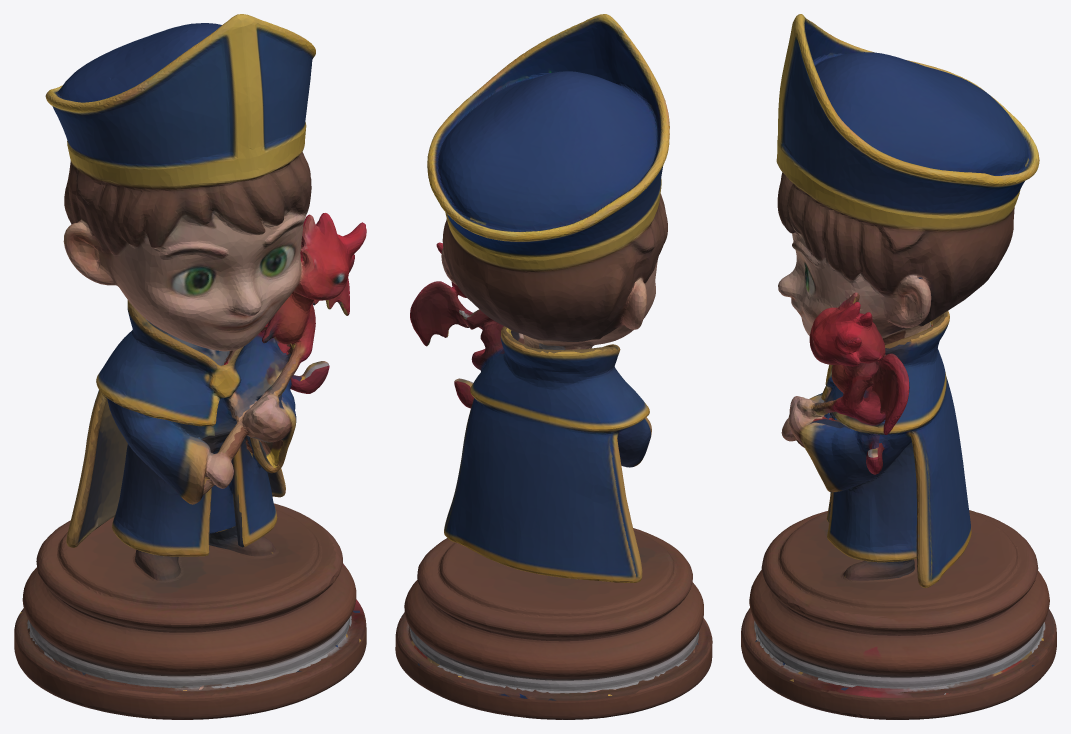
The model's file is bishop-ale-hy2.glb.
3 renders of one model, left to right at view 1: azimuth 30°, elevation 25°; view 2: azimuth 150°, elevation 25°; view 3: azimuth 270°, elevation 25°, orthographic. The views are drawn at different scales.
Parts seen in each view (by area): view 1: tmpkpwurx1l.ply; view 2: tmpkpwurx1l.ply; view 3: tmpkpwurx1l.ply.
Part boxes in pixels (x1=…): tmpkpwurx1l.ply: x1=14, y1=14, x2=366, y2=719; tmpkpwurx1l.ply: x1=395, y1=14, x2=712, y2=719; tmpkpwurx1l.ply: x1=741, y1=14, x2=1056, y2=719.
Bounding box in the file's own units: 0.9635 × 1.99 × 0.8999.
Materials: 1 (1 with a texture image).
